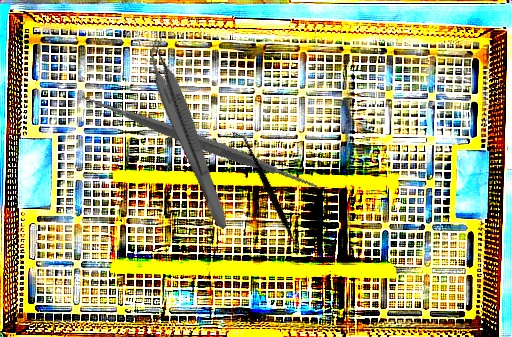Spatula Surgical: (77, 20, 322, 263), (196, 130, 343, 257)
Tissue Forceps: (137, 35, 241, 232)
